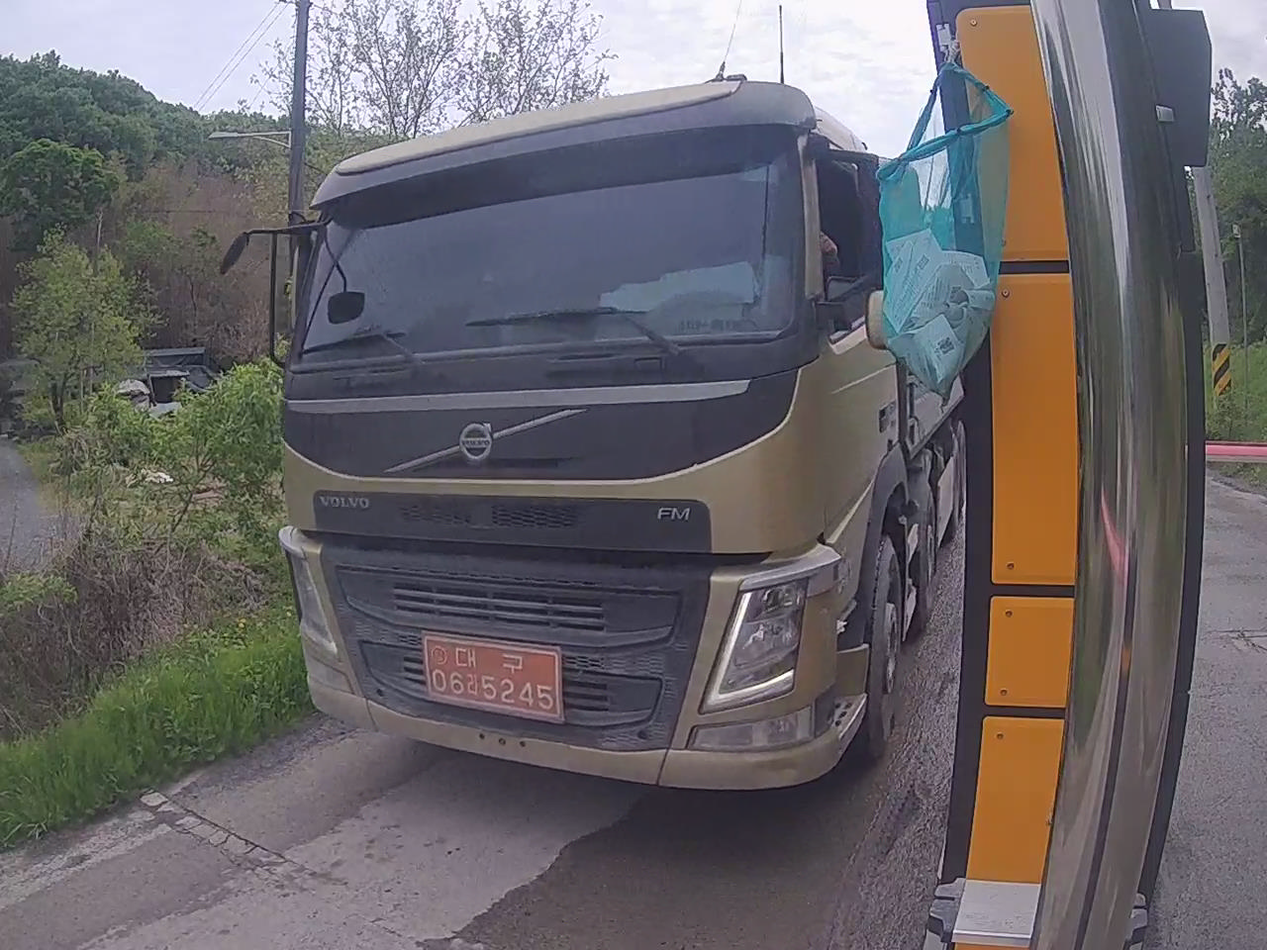license_plate: (423, 635, 562, 722)
truck: (223, 78, 963, 789)
